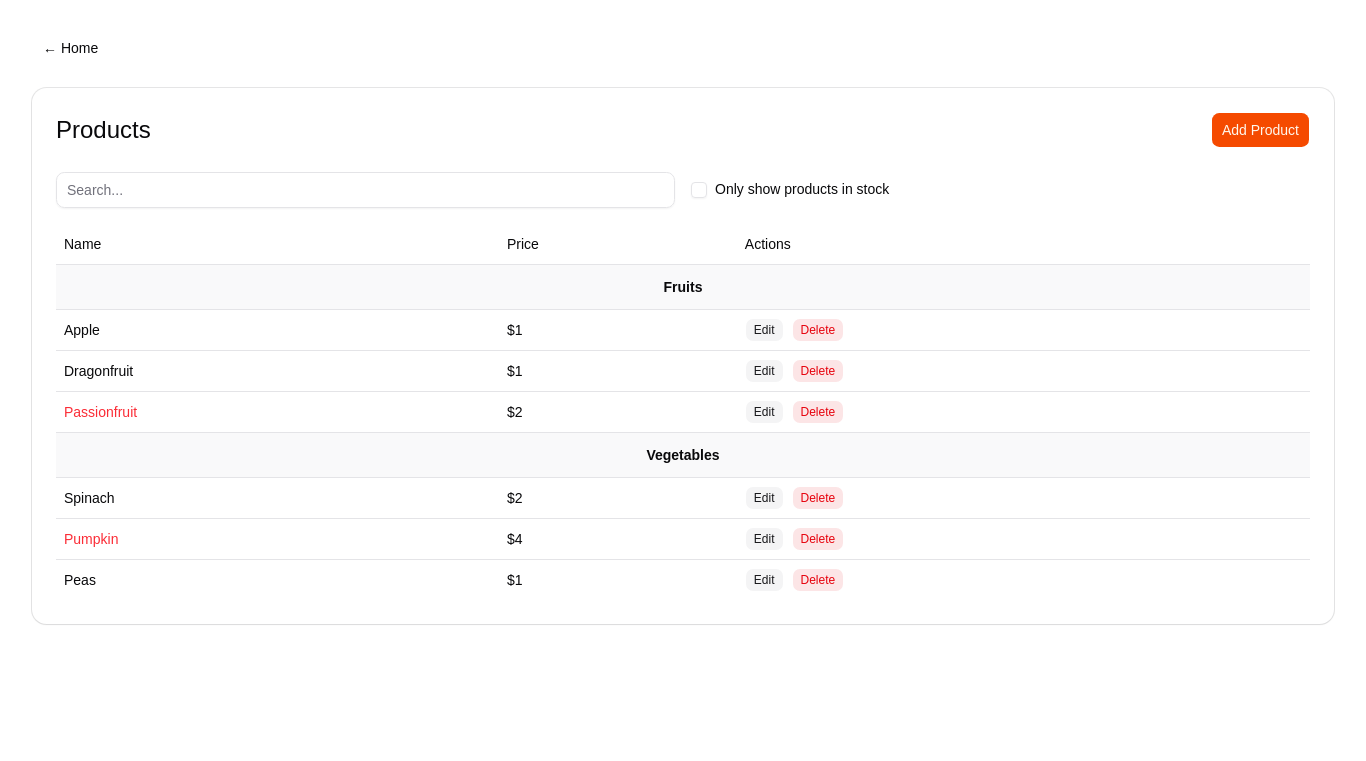
Test: FilterableProductTable with userEvent › shows validation errors when submitting empty form
Expected: the text "Apple" is shown, [64, 322, 100, 338]
// Click Add Product button
Click the button "Add Product": coordinates (1260, 130) [1211, 112, 1310, 148]
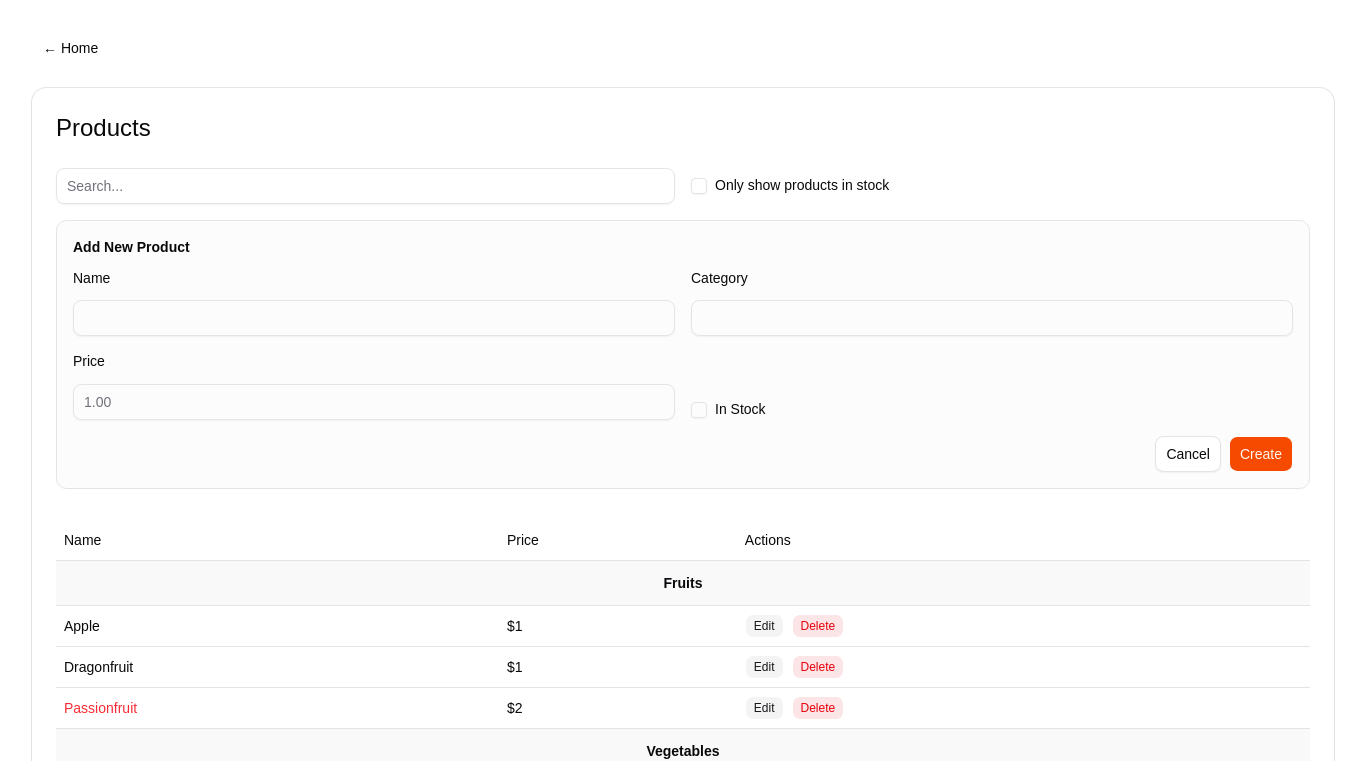
// Submit the form empty
Click the button "Create": coordinates (1261, 454) [1229, 436, 1293, 472]
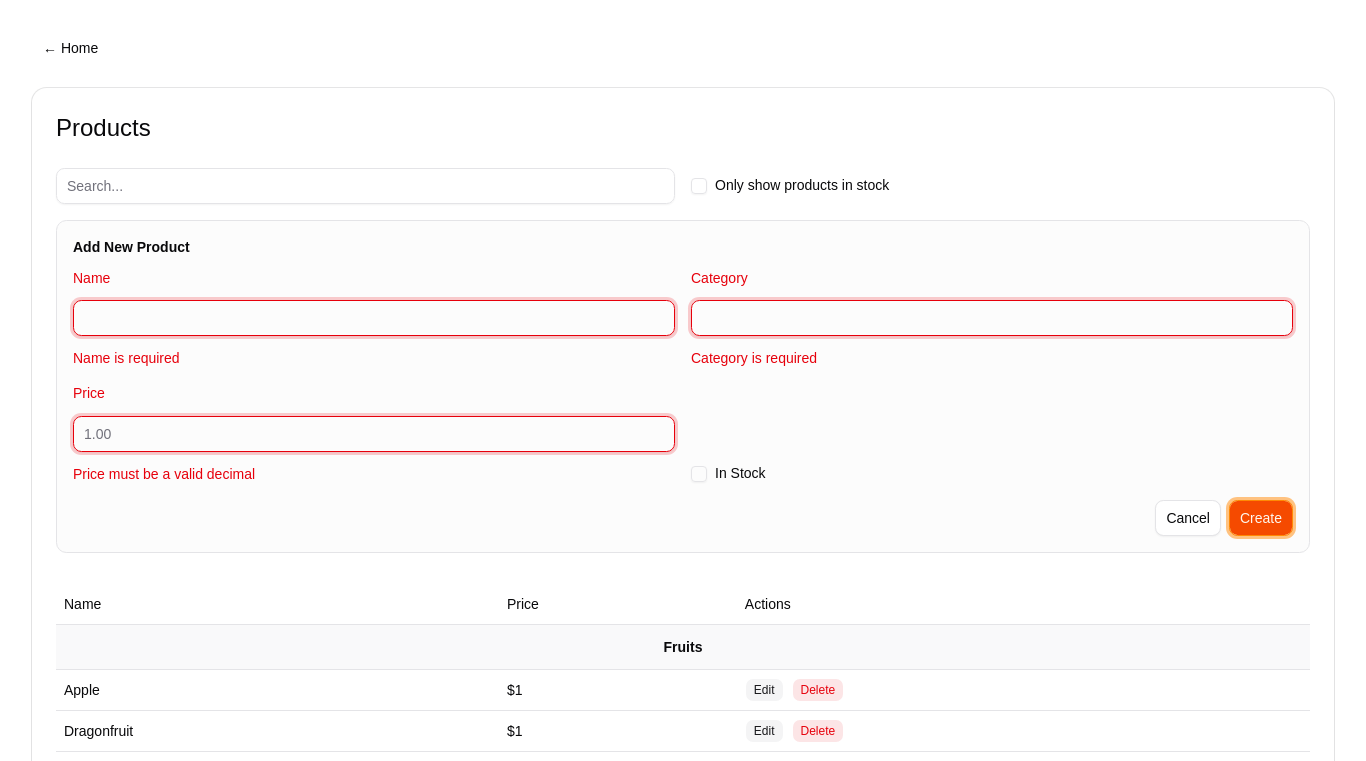
Now the text "Name is required" is shown, box [73, 350, 180, 366]
Now the text "Category is required" is shown, box [691, 350, 817, 366]
Now the text "Price must be a valid decimal" is shown, box [73, 466, 255, 482]
